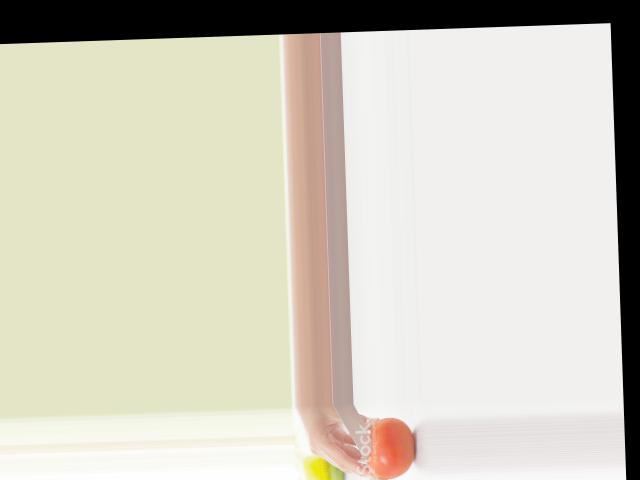tomato: (366, 415, 416, 479)
